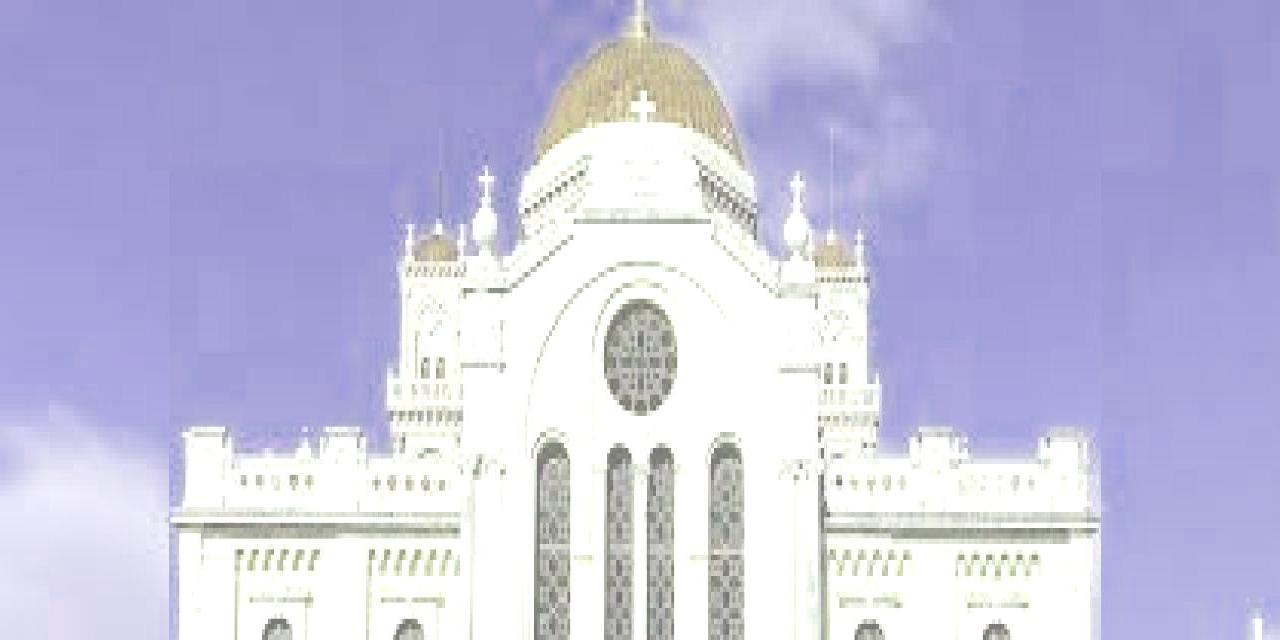Agios Minas: (170, 1, 1102, 640)
